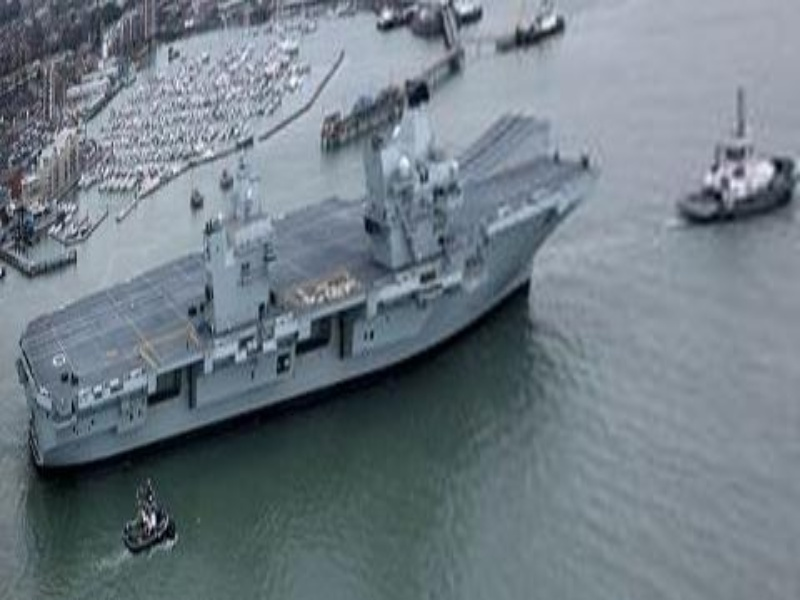boat: (685, 94, 795, 217), (119, 485, 176, 547)
carrier: (50, 163, 539, 441)
